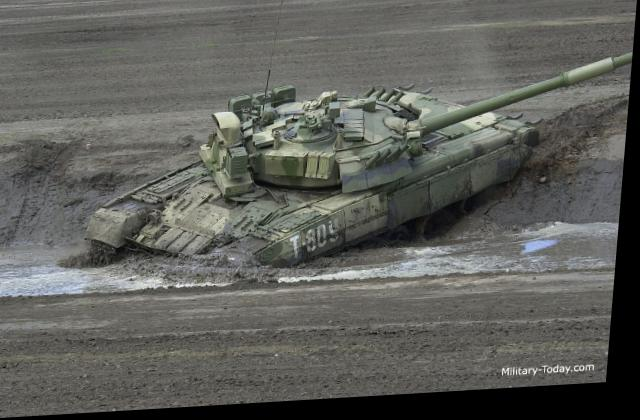tank: (90, 71, 547, 282)
